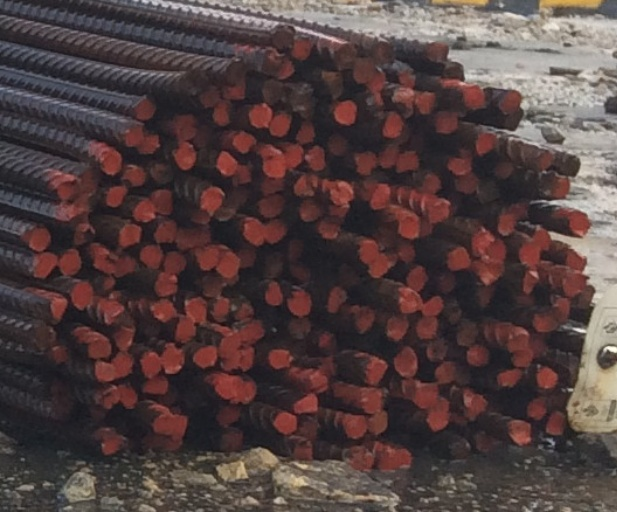dipstick: (378, 444, 410, 471), (343, 446, 373, 471), (474, 262, 506, 284), (290, 82, 316, 109), (32, 252, 58, 278), (428, 399, 449, 431), (58, 248, 81, 277), (462, 389, 487, 415), (394, 348, 418, 375), (152, 416, 190, 433), (362, 388, 386, 414), (221, 351, 252, 371), (161, 343, 182, 372), (262, 152, 286, 177), (414, 384, 438, 409), (289, 289, 311, 316), (320, 70, 341, 98), (334, 100, 358, 124), (131, 97, 156, 120), (326, 182, 351, 205), (397, 289, 422, 312), (369, 182, 390, 209), (457, 318, 477, 346), (173, 116, 197, 139), (354, 150, 378, 173), (425, 43, 449, 66), (544, 175, 567, 199), (533, 366, 557, 389), (273, 24, 295, 49), (392, 88, 414, 113), (463, 84, 485, 109), (506, 329, 531, 351), (445, 437, 470, 459), (174, 144, 195, 170), (244, 219, 265, 245), (367, 360, 388, 386), (354, 308, 375, 334), (71, 282, 91, 309), (292, 121, 315, 144), (196, 246, 218, 270), (218, 252, 240, 276), (333, 44, 355, 68), (218, 429, 242, 451), (475, 132, 497, 156), (568, 213, 590, 237), (141, 352, 162, 377), (471, 229, 492, 254), (262, 252, 283, 277), (259, 197, 286, 216), (560, 152, 579, 179), (202, 187, 223, 211), (185, 298, 206, 322), (533, 148, 554, 172), (511, 421, 532, 445), (151, 300, 176, 320), (495, 368, 520, 388), (359, 238, 378, 264), (119, 224, 141, 246), (219, 332, 241, 354), (447, 248, 469, 270), (485, 240, 507, 262), (155, 273, 176, 296), (249, 105, 272, 126), (562, 272, 583, 295), (101, 302, 125, 322), (271, 113, 291, 137), (287, 319, 311, 339), (355, 60, 375, 84), (214, 376, 242, 393), (99, 433, 124, 452), (213, 102, 232, 127), (261, 48, 280, 73), (429, 200, 448, 225), (307, 145, 325, 171), (238, 322, 264, 340), (265, 221, 286, 243), (398, 217, 419, 239), (343, 416, 365, 437), (387, 317, 408, 339), (417, 318, 439, 339), (421, 296, 443, 317), (436, 111, 458, 132), (419, 172, 440, 194), (478, 180, 500, 201), (232, 298, 254, 319), (233, 131, 256, 151), (193, 346, 216, 366), (368, 413, 388, 436), (407, 266, 427, 289), (373, 42, 393, 65), (546, 412, 566, 435), (383, 113, 400, 140), (522, 269, 539, 296), (154, 189, 173, 213), (262, 79, 281, 103), (328, 288, 347, 312), (464, 347, 488, 366), (532, 312, 557, 330), (134, 201, 155, 222), (235, 383, 256, 404), (274, 412, 295, 433), (100, 150, 122, 170), (92, 361, 114, 381), (154, 222, 176, 242), (475, 431, 495, 453), (269, 349, 292, 368), (550, 297, 569, 320), (295, 175, 316, 195), (499, 90, 520, 110), (30, 230, 52, 249), (88, 339, 110, 358), (294, 394, 316, 413), (293, 439, 312, 461), (427, 339, 446, 361), (378, 144, 397, 166), (499, 209, 515, 235), (114, 327, 132, 350), (286, 145, 304, 168), (454, 175, 477, 193), (115, 353, 132, 377), (444, 298, 461, 322), (95, 252, 115, 272), (166, 252, 186, 272), (218, 406, 238, 426), (307, 372, 327, 392), (566, 251, 586, 271), (123, 166, 144, 185), (417, 92, 436, 113), (519, 244, 540, 263), (437, 362, 455, 384), (265, 282, 281, 306), (124, 126, 143, 146), (186, 73, 206, 92), (494, 161, 514, 180), (527, 399, 546, 419), (142, 245, 160, 266), (329, 132, 347, 153), (397, 152, 415, 173), (512, 350, 533, 368), (292, 265, 313, 283), (144, 378, 169, 393), (120, 386, 137, 408), (371, 255, 388, 277), (289, 239, 306, 261), (227, 58, 243, 81), (448, 158, 471, 174), (200, 88, 219, 107), (300, 201, 319, 220), (396, 65, 414, 85), (445, 62, 463, 82), (49, 298, 66, 319), (149, 164, 170, 181), (218, 152, 234, 174), (223, 83, 245, 99), (318, 333, 334, 355), (262, 179, 285, 194), (212, 299, 227, 322), (106, 186, 124, 205), (398, 244, 416, 263), (34, 328, 54, 345), (142, 134, 159, 154), (319, 223, 339, 240), (504, 112, 524, 129), (532, 230, 549, 250), (59, 179, 76, 198), (76, 169, 93, 188), (101, 389, 120, 406), (294, 41, 310, 61), (280, 59, 295, 78), (177, 324, 192, 343), (508, 205, 528, 219), (52, 346, 67, 364), (371, 70, 383, 90), (62, 206, 79, 218)
